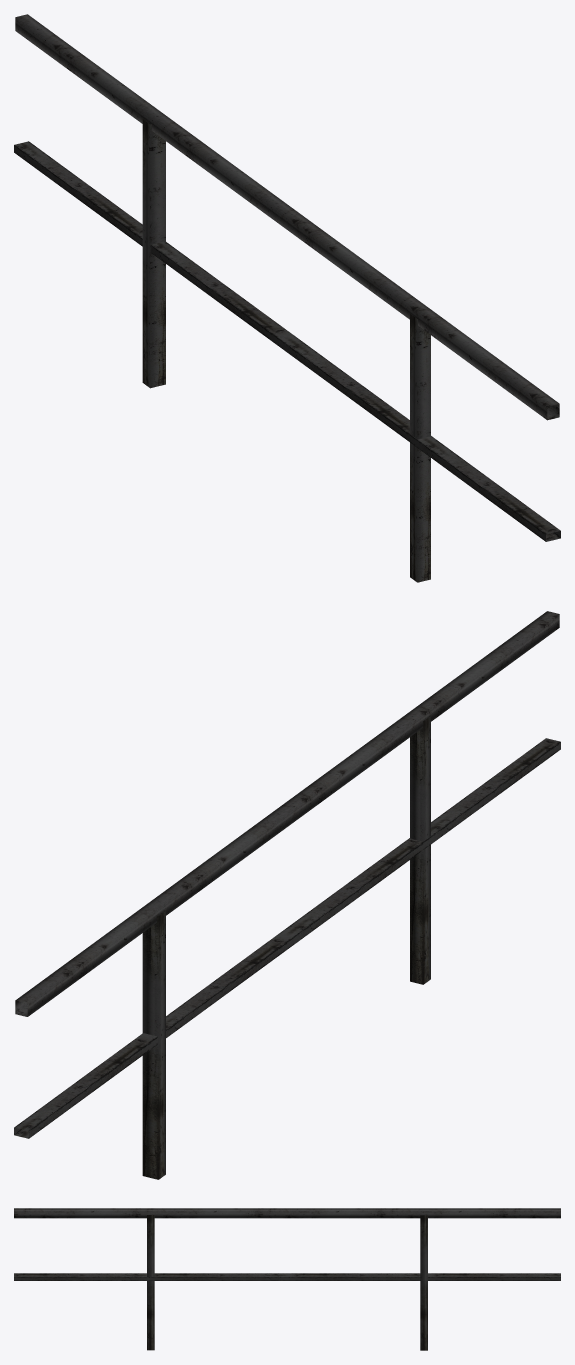
The model's file is cs_handrail_128_double_lod1.glb.
The picture shows the model from 3 angles, top to bottom: view 1: azimuth 30°, elevation 25°; view 2: azimuth 150°, elevation 25°; view 3: azimuth 270°, elevation 25°; orthographic projection. The views are drawn at different scales.
Visible parts, largest first — view 1: surf0; view 2: surf0; view 3: surf0.
Part boxes in pixels (x1,y1,x2,y2): surf0: (14, 14, 560, 582); surf0: (14, 611, 560, 1179); surf0: (14, 1208, 560, 1350).
Bounding box in the file's own units: 2.21 × 35.9 × 128.
